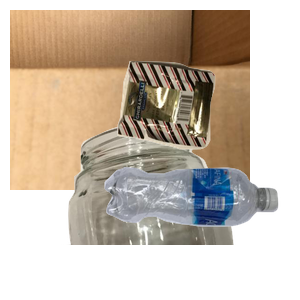cardboard: (10, 10, 250, 190)
glass: (61, 120, 287, 300)
plastic: (102, 165, 300, 300)
trash: (115, 58, 300, 200)
